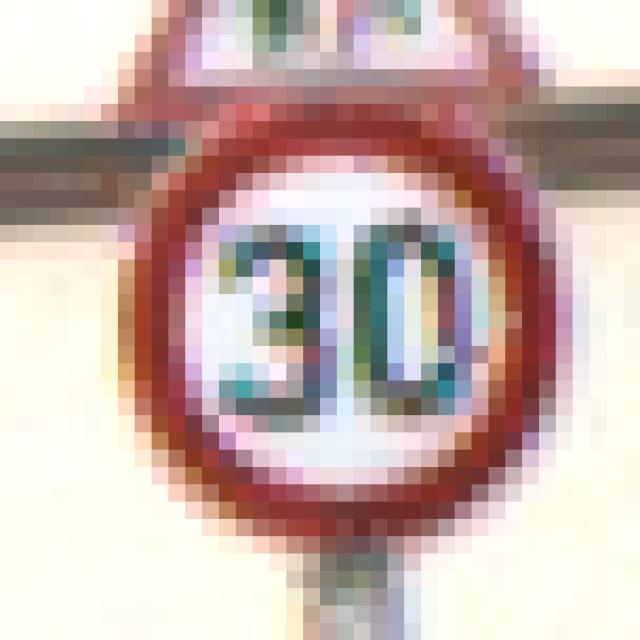Speed Limit -30-: (92, 78, 530, 527)
